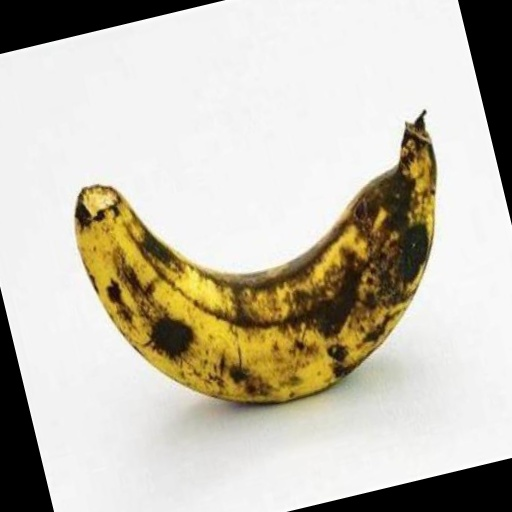fruit: (14, 144, 154, 389)
